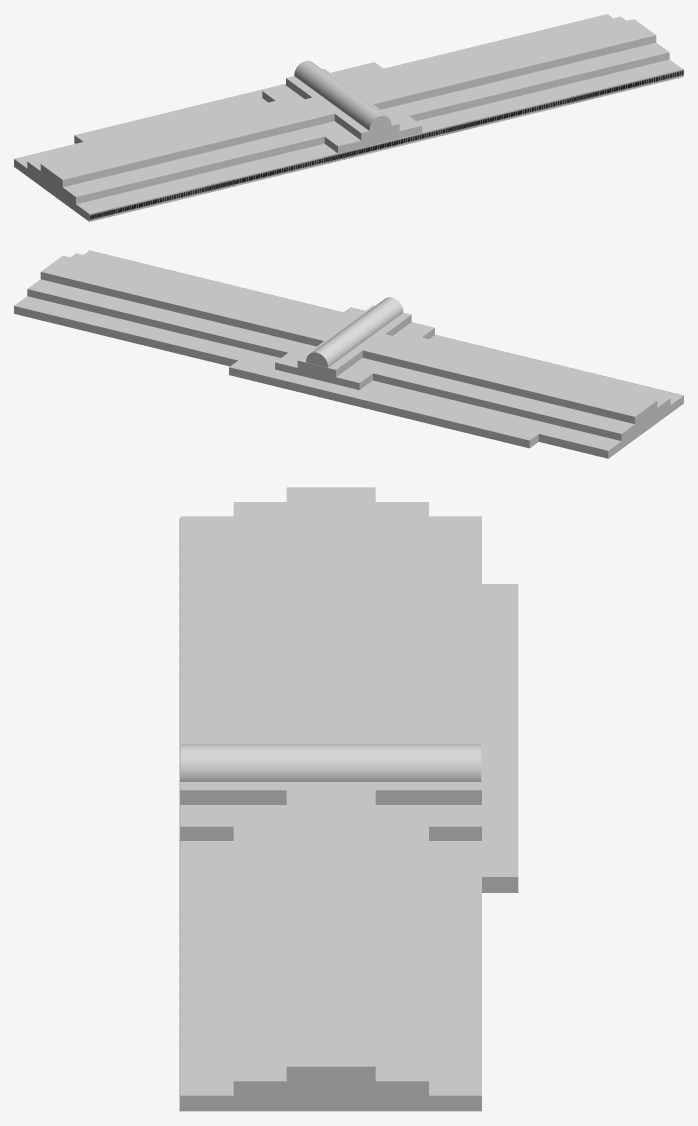
The picture shows the model from 3 angles, top to bottom: view 1: azimuth 30°, elevation 25°; view 2: azimuth 150°, elevation 25°; view 3: azimuth 270°, elevation 25°; orthographic projection. The views are drawn at different scales.
Visible parts, largest first — view 1: Cube.015; view 2: Cube.015; view 3: Cube.015.
Part boxes in pixels (left/top/right/bottom): Cube.015: left=14, top=14, right=683, bottom=221; Cube.015: left=14, top=250, right=683, bottom=458; Cube.015: left=179, top=487, right=518, bottom=1111.
Size of the model in its own units: 564 by 31.5 by 139.
3 materials, 1 textured.
